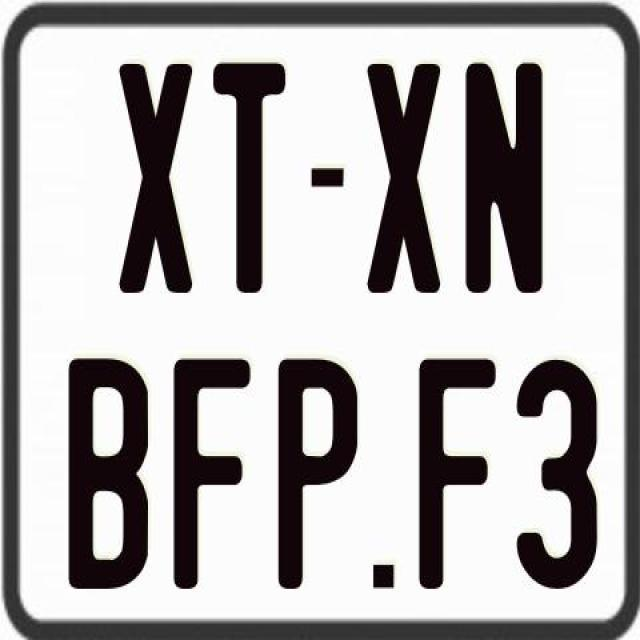3: (514, 357, 598, 592)
B: (66, 353, 150, 592)
F: (170, 354, 254, 594), (417, 353, 500, 588)
N: (462, 62, 546, 301)
P: (278, 356, 366, 590)
T: (213, 59, 290, 290)
X: (368, 62, 447, 296), (118, 61, 194, 296)
